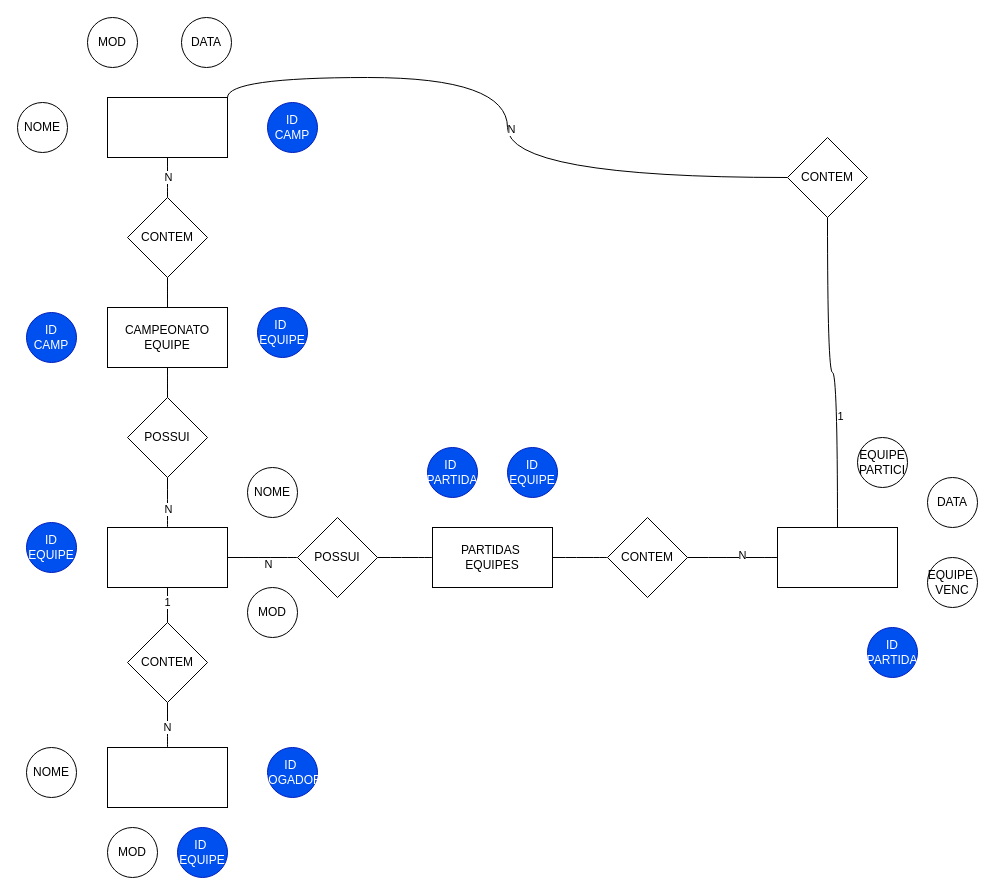
Image size: 995x895. Some labels were removed from this diagram. The shapes that lost their labels are listed below. From the top down, each one's centre as x and y in pixels, then its label:
At (x=167, y=127): "CAMPEONATO".
At (x=167, y=557): "EQUIPE".
At (x=837, y=557): "PARTIDAS".
At (x=167, y=777): "JOGADORES".
